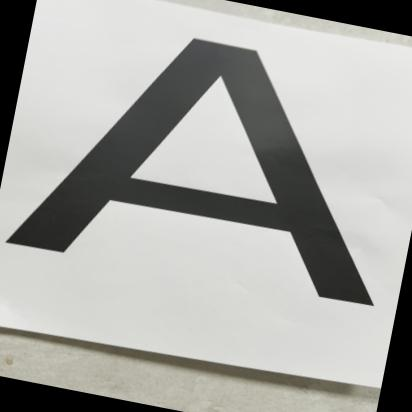seat: (2, 3, 412, 326)
